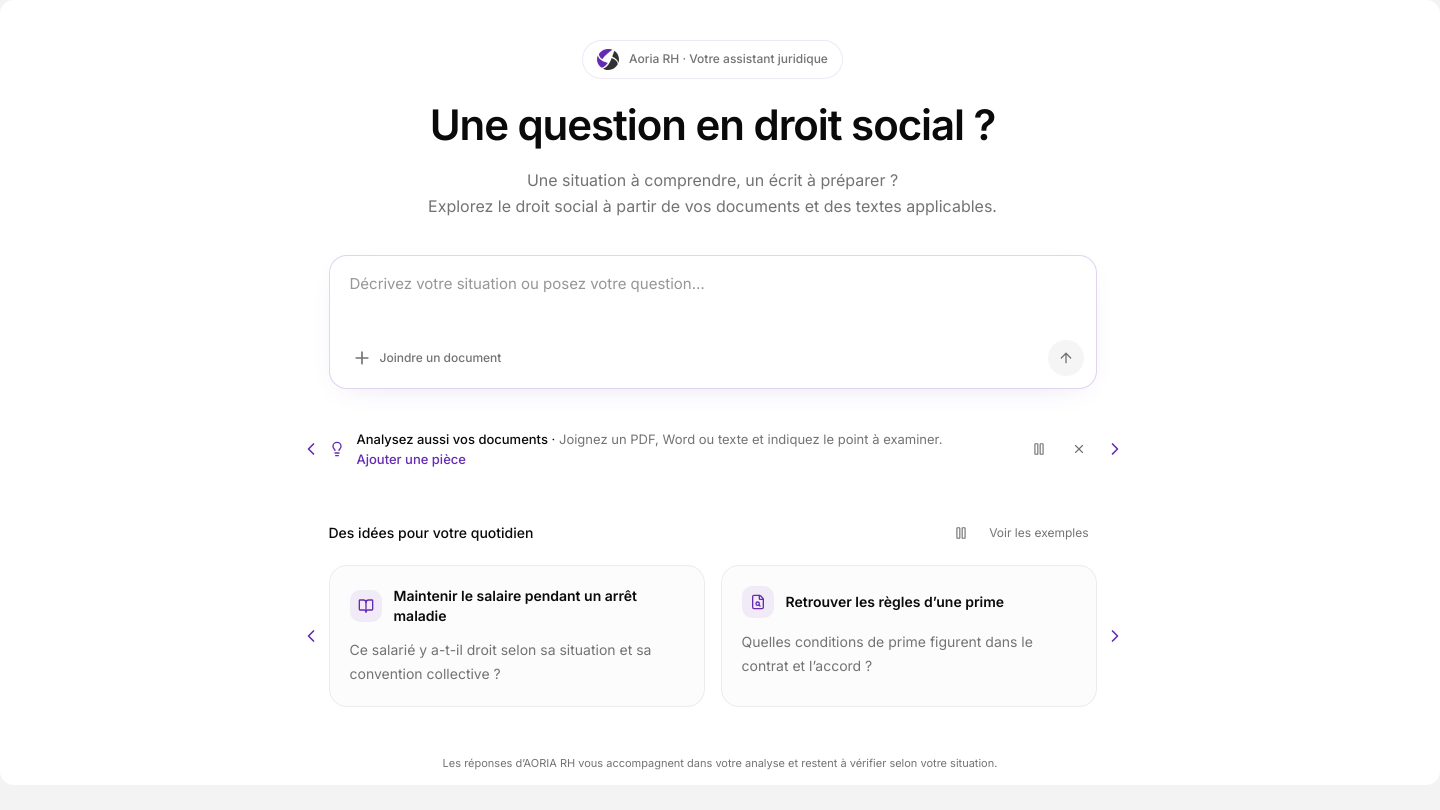
Test: shows the input, rotating ideas, then two carousel cards for comptable_paie
Click the button "Maintenir le salaire pendant un arrêt maladie": (366, 606) left=328, top=565, right=704, bottom=707
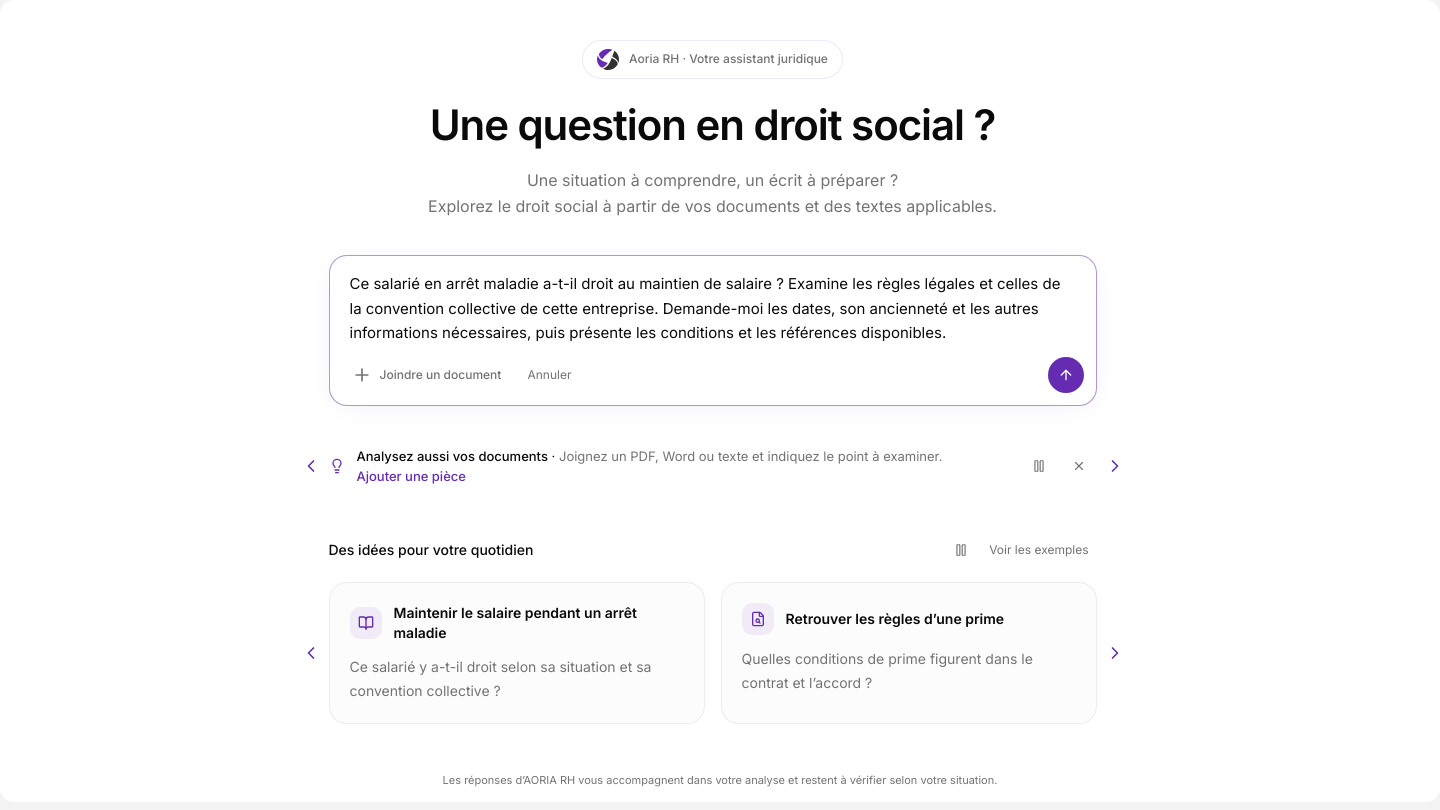
Expected: the text box is not empty, left=330, top=256, right=1096, bottom=353
